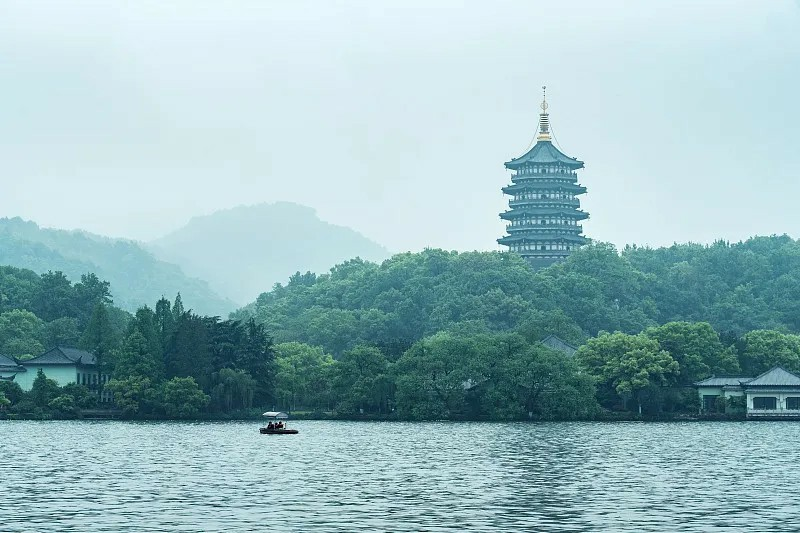Leifeng: (499, 84, 592, 270)
